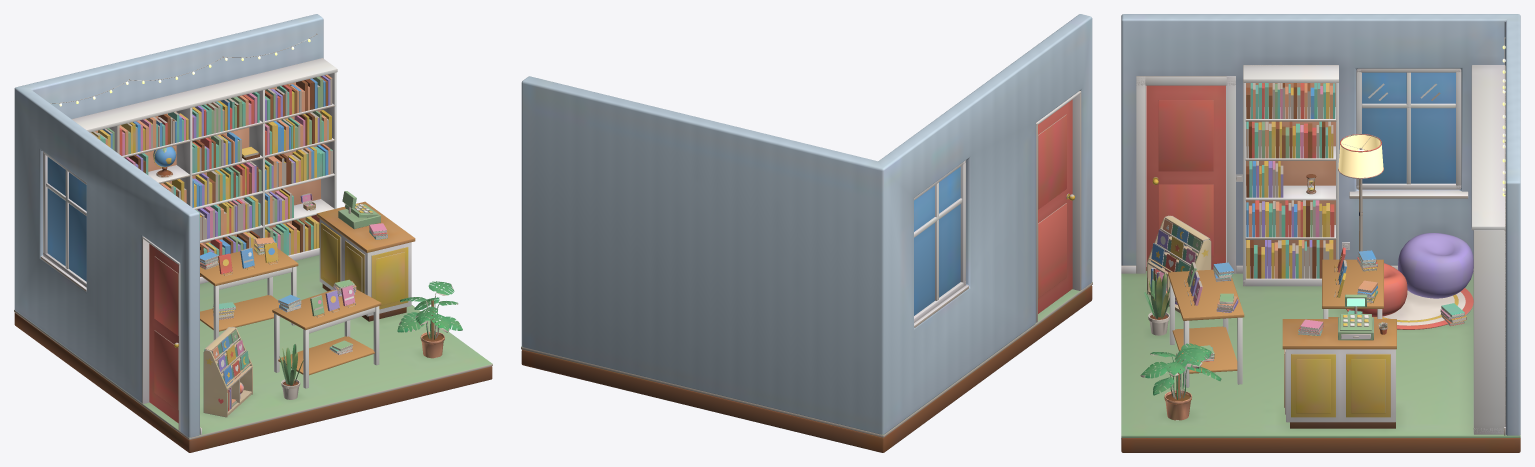
Rendered from bookstore-interior.glb.
The picture shows the model from 3 angles, left to right: view 1: azimuth 30°, elevation 25°; view 2: azimuth 150°, elevation 25°; view 3: azimuth 270°, elevation 25°; orthographic projection. The views are drawn at different scales.
Parts seen in each view (by area): view 1: bookstore-interior_body, bookstore-interior; view 2: bookstore-interior_body; view 3: bookstore-interior_body, bookstore-interior, bookstore-interior_floor_lamp_glow.
Part boxes in pixels (x1,y1,x2,y2): bookstore-interior_body: (14, 14, 492, 452); bookstore-interior: (200, 247, 381, 388); bookstore-interior_body: (521, 14, 1092, 452); bookstore-interior_body: (1121, 14, 1520, 452); bookstore-interior: (1168, 259, 1383, 387); bookstore-interior_floor_lamp_glow: (1338, 135, 1383, 177).
Bounding box in the file's own units: 4 × 3 × 4.
11 materials, 1 textured.
